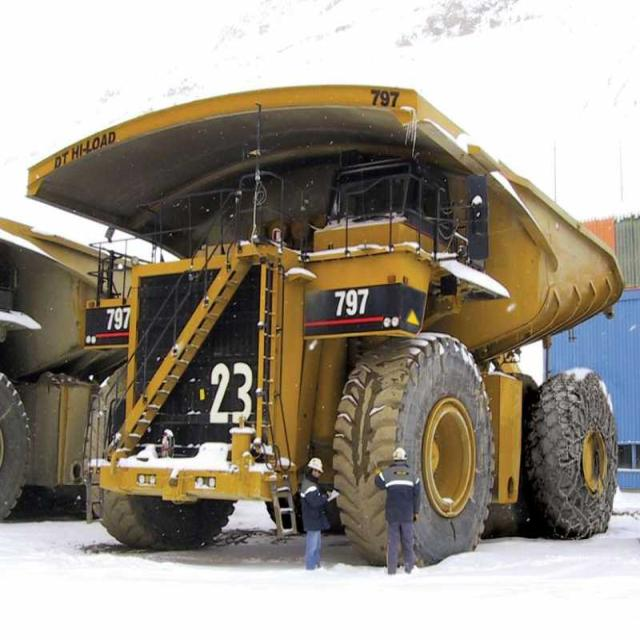dump_truck: (22, 58, 619, 561)
